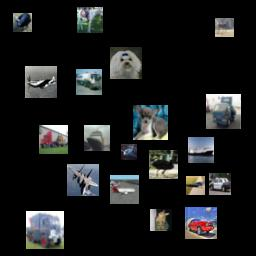airplane: (67, 164, 99, 196), (25, 66, 57, 98), (110, 175, 139, 204), (186, 176, 205, 195), (121, 144, 137, 160)
automobile: (185, 207, 217, 239), (209, 173, 231, 195)
bird: (149, 150, 178, 179), (13, 13, 32, 32)
cat: (150, 209, 172, 231)
deer: (215, 18, 234, 37)
dog: (133, 105, 168, 140), (110, 47, 142, 79)
ship: (84, 125, 110, 151), (188, 137, 214, 163)
truck: (26, 211, 64, 249), (206, 94, 241, 129), (39, 125, 68, 154), (76, 69, 102, 95)
